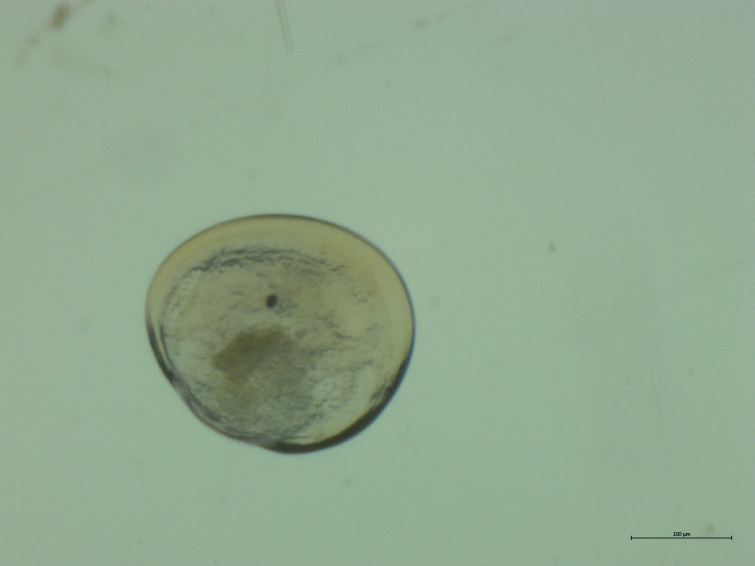oyster: (128, 201, 428, 467)
